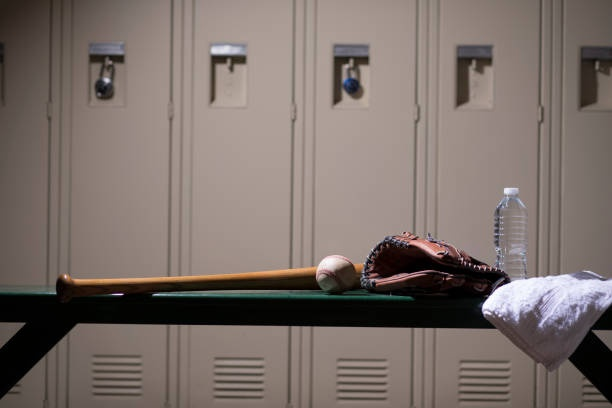bita: (52, 259, 366, 304)
